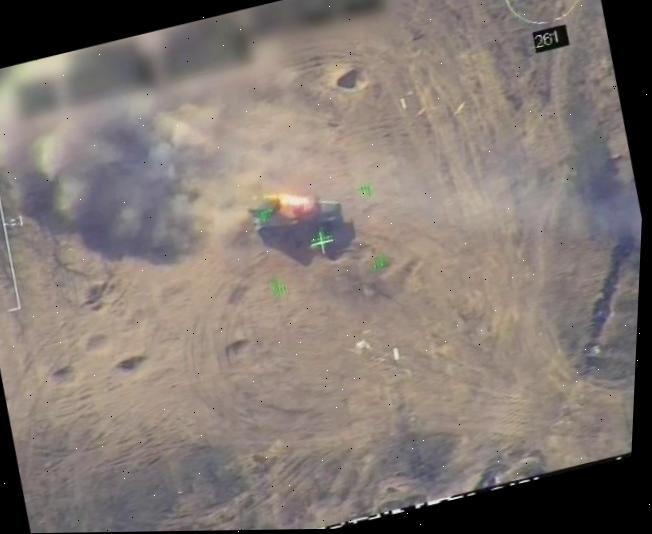rszo: (242, 177, 346, 250)
